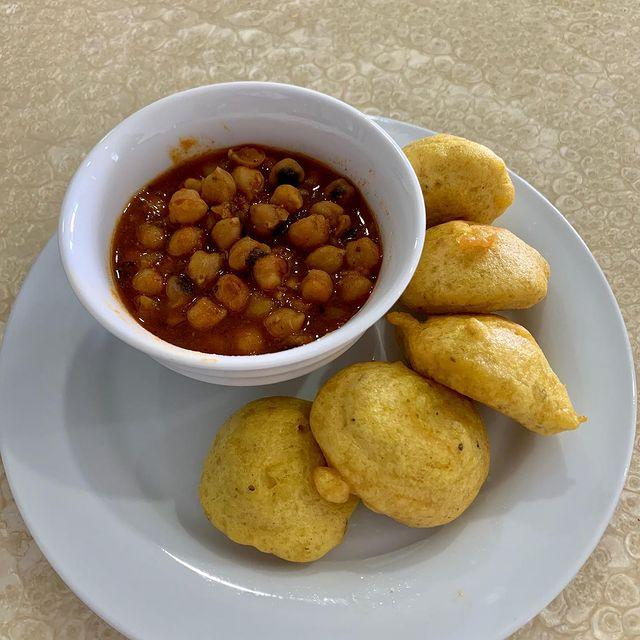Chole: (135, 136, 372, 338)
